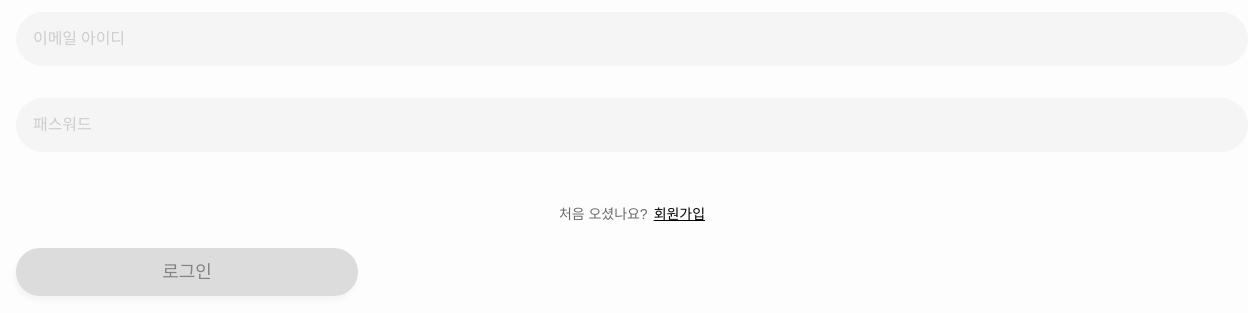
Test: EmailLoginForm › 유효한 이메일과 패스워드 입력 시 로그인 버튼이 활성화된다
Expected: the button "로그인" is disabled, top-left (16, 248), bottom-right (358, 296)
In the field with placeholder "이메일 아이디": (632, 39) top-left (33, 13), bottom-right (1231, 65), type "test@test.com"
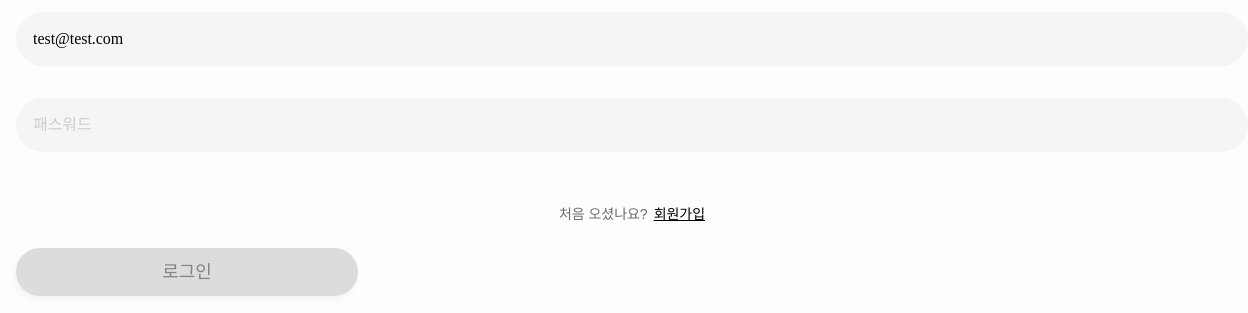
In the password field with placeholder "패스워드": (632, 125) top-left (33, 99), bottom-right (1231, 151), type "Password123!"
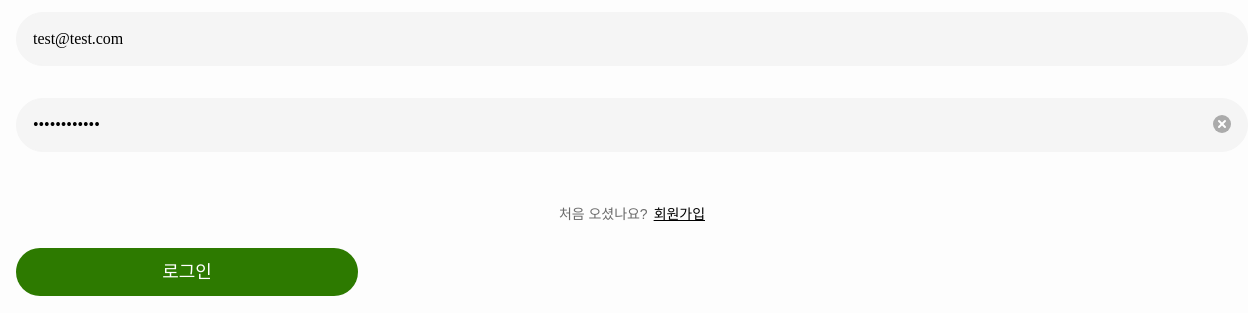
Now the button "로그인" is enabled, box top-left (16, 248), bottom-right (358, 296)
